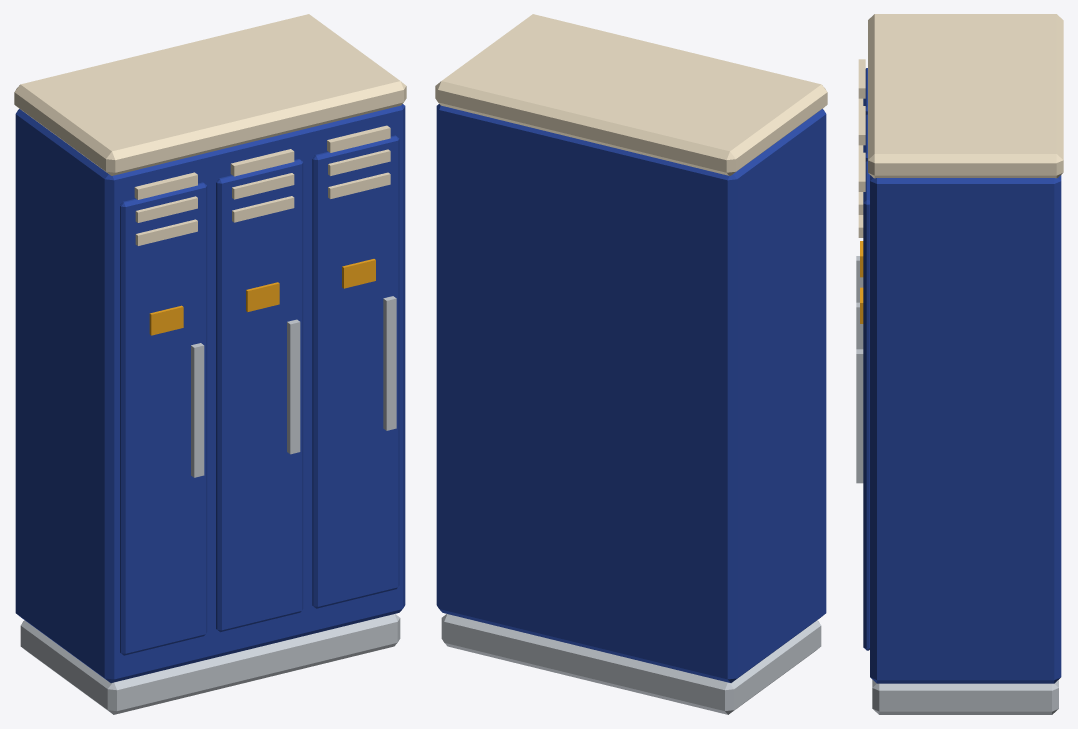
File: locker.obj
The picture shows the model from 3 angles, left to right: view 1: azimuth 30°, elevation 25°; view 2: azimuth 150°, elevation 25°; view 3: azimuth 270°, elevation 25°; orthographic projection.
Visible parts, largest first — view 1: cabinet, door_2, door_0, door_1, top_cap, plinth, handle_1, handle_0, handle_2, vent_1_2, vent_2_2, vent_0_2 (+9 smaller); view 2: cabinet, top_cap, plinth; view 3: cabinet, top_cap, plinth, door_2, handle_2.
Part boxes in pixels (x1=…): cabinet: x1=15, y1=104, x2=405, y2=682; door_2: x1=312, y1=135, x2=399, y2=608; door_0: x1=120, y1=182, x2=207, y2=655; door_1: x1=216, y1=159, x2=303, y2=632; top_cap: x1=14, y1=14, x2=406, y2=175; plinth: x1=20, y1=614, x2=400, y2=714; handle_1: x1=287, y1=319, x2=300, y2=454; handle_0: x1=191, y1=343, x2=204, y2=477; handle_2: x1=383, y1=296, x2=396, y2=430; vent_1_2: x1=230, y1=149, x2=294, y2=176; vent_2_2: x1=327, y1=125, x2=390, y2=152; vent_0_2: x1=134, y1=172, x2=197, y2=199; cabinet: x1=436, y1=104, x2=826, y2=682; top_cap: x1=435, y1=14, x2=827, y2=175; plinth: x1=441, y1=614, x2=821, y2=714; cabinet: x1=870, y1=175, x2=1061, y2=683; top_cap: x1=868, y1=14, x2=1063, y2=178; plinth: x1=872, y1=679, x2=1058, y2=714; door_2: x1=863, y1=161, x2=869, y2=650; handle_2: x1=856, y1=349, x2=863, y2=483.
Size of the model in its own units: 1.5 by 2.7 by 0.9.
